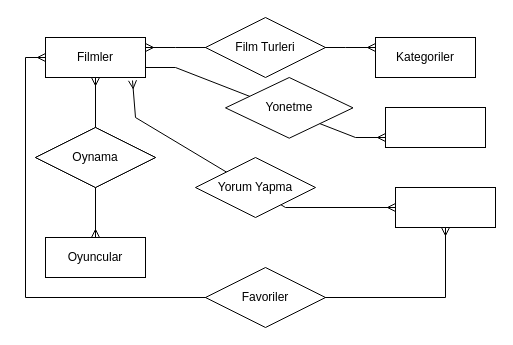
The diagram is 513 pixels wide and 345 high, and some of its shapes have lost their labels. The shapes that lost their labels are listed below. From the top down, each one's centre as x and y in pixels, then its label:
At (435,127): "Yonetmenler".
At (445,207): "Kullanıcı".
